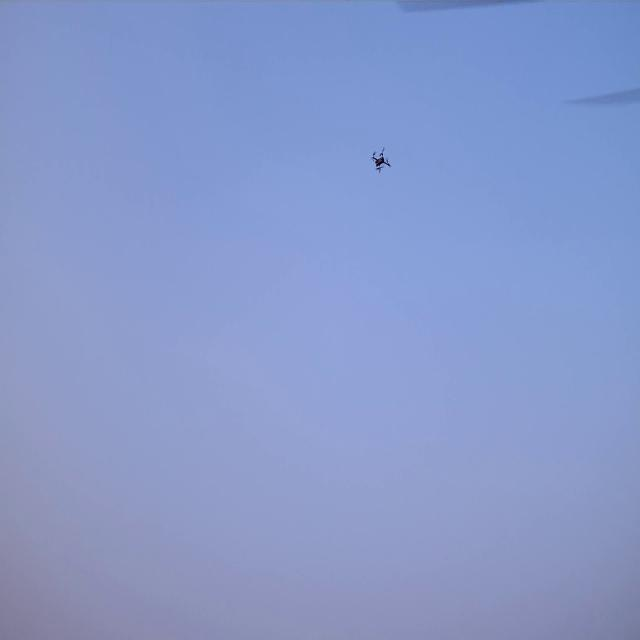UAV: (373, 152, 389, 172)
